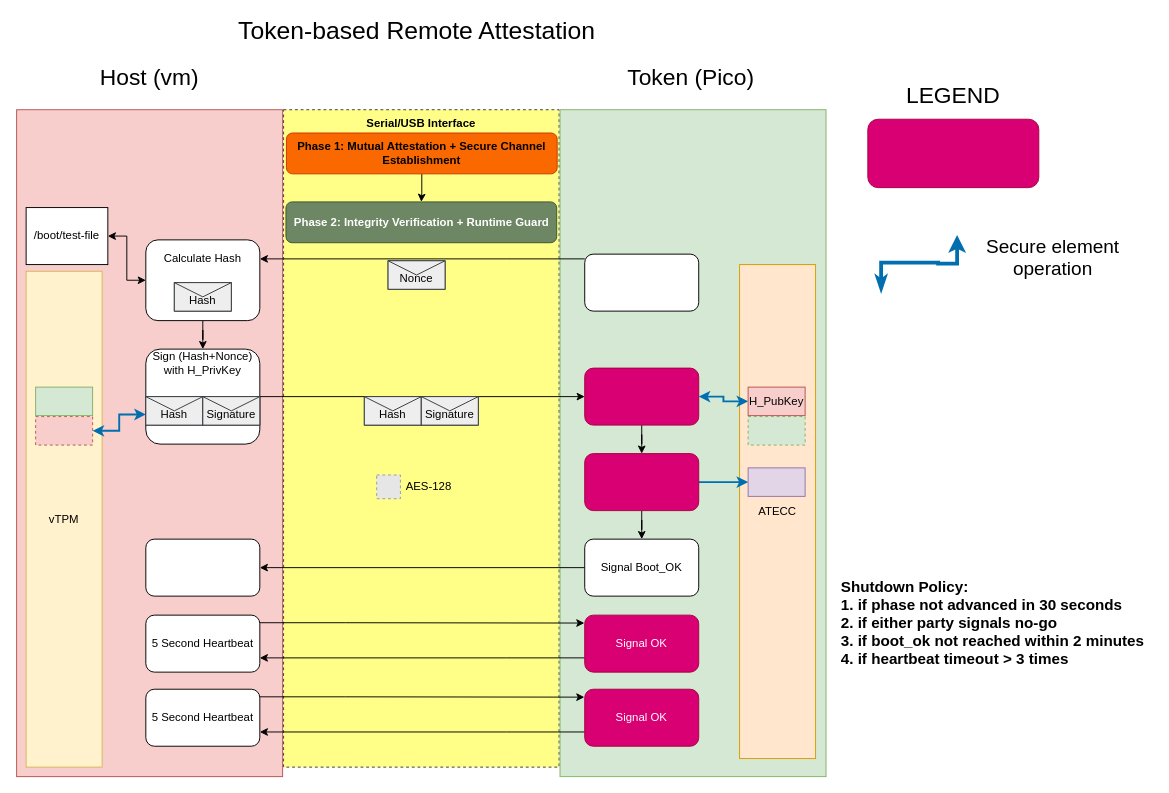
This 1169x793 diagram has some shape labels left out. Grey dashed boxes stand in for pictures. Each missing label, with the centre of its shape:
"GO/NOGO CRITERIA" belongs at point (953, 153).
"golden hash" belongs at point (776, 481).
"H_PrivKey" belongs at point (64, 430).
"Integrity Challenge" belongs at point (641, 282).
"Load Kernel" belongs at point (202, 567).
"T_PrivKey" belongs at point (776, 430).
"T_PubKey" belongs at point (64, 401).
"Verify Hash" belongs at point (641, 482).
"Verify Signature with H_Pubkey" belongs at point (641, 396).
